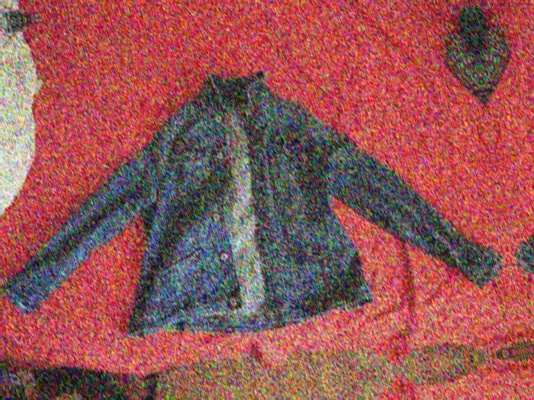Blazer: (0, 36, 502, 386), (488, 0, 534, 306), (20, 397, 534, 400), (0, 112, 5, 400)
